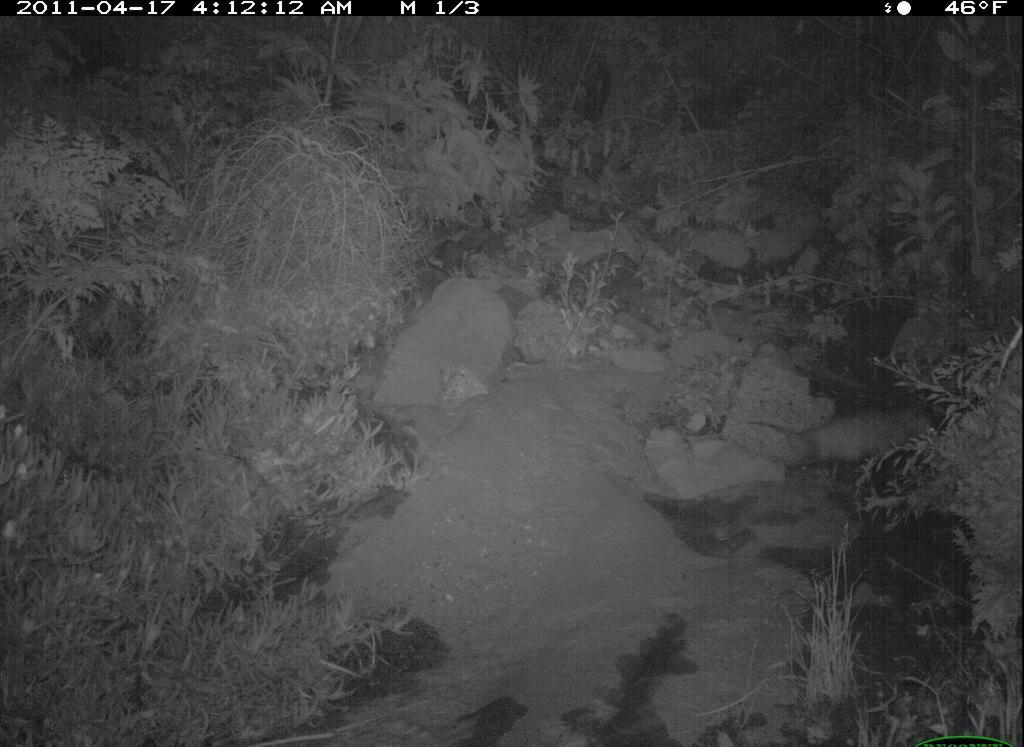opossum: (762, 388, 946, 478)
